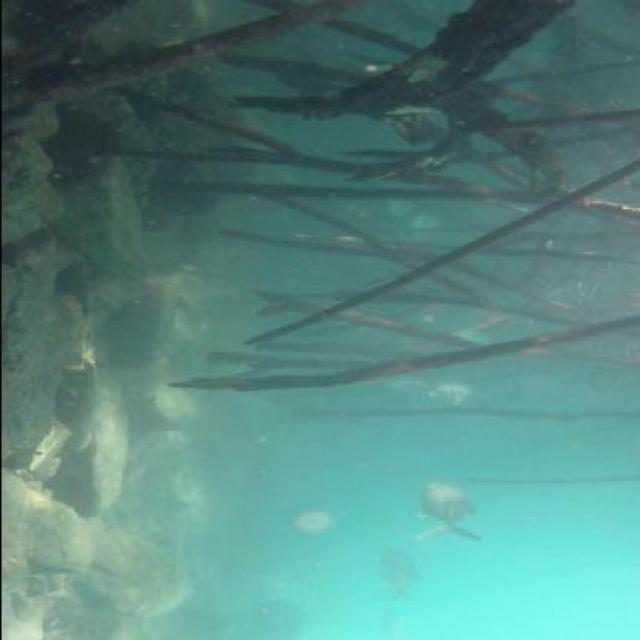Caranx_sexfasciatus_juvenile: (402, 475, 480, 547), (366, 550, 428, 605), (426, 378, 479, 404), (371, 371, 435, 392)
